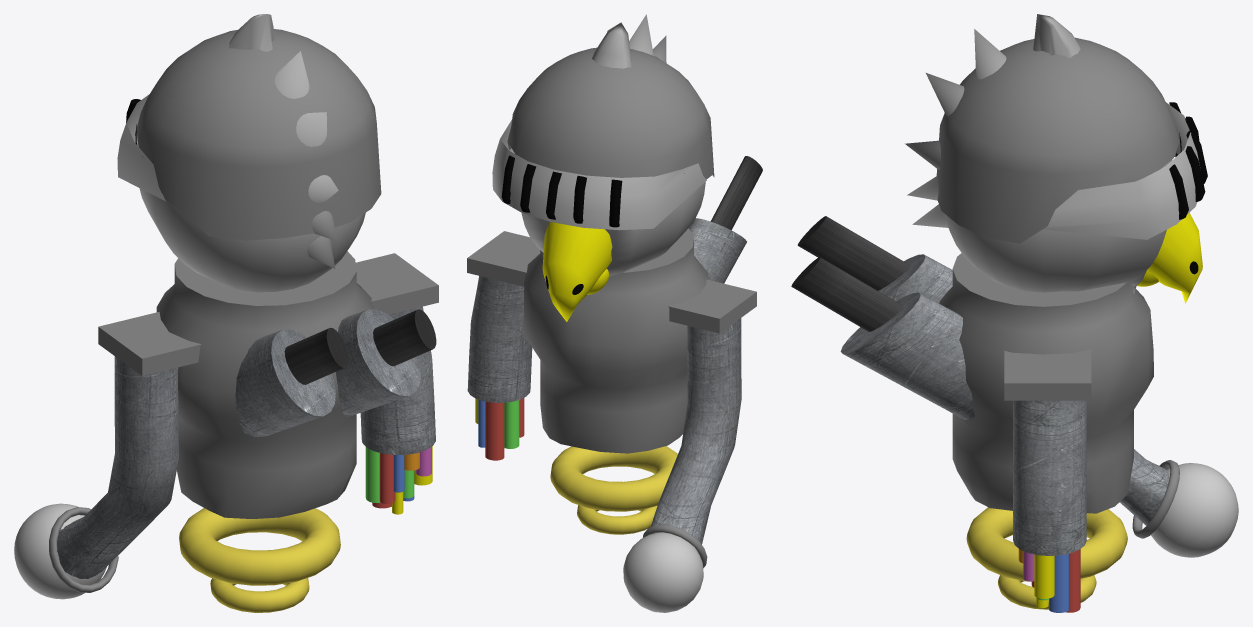
File: Enemy.fbx
3 renders of one model, left to right at view 1: azimuth 30°, elevation 25°; view 2: azimuth 150°, elevation 25°; view 3: azimuth 270°, elevation 25°, orthographic. The views are drawn at different scales.
Visible parts, largest first — view 1: pCube3; view 2: pCube3; view 3: pCube3.
Boxes of the visible parts, x1,y1,x2,y2 form: pCube3: (14, 14, 438, 612); pCube3: (467, 14, 762, 612); pCube3: (791, 14, 1238, 612).
Bounding box in the file's own units: 3.52 × 6 × 4.05.
Materials: 33 (6 with a texture image).
